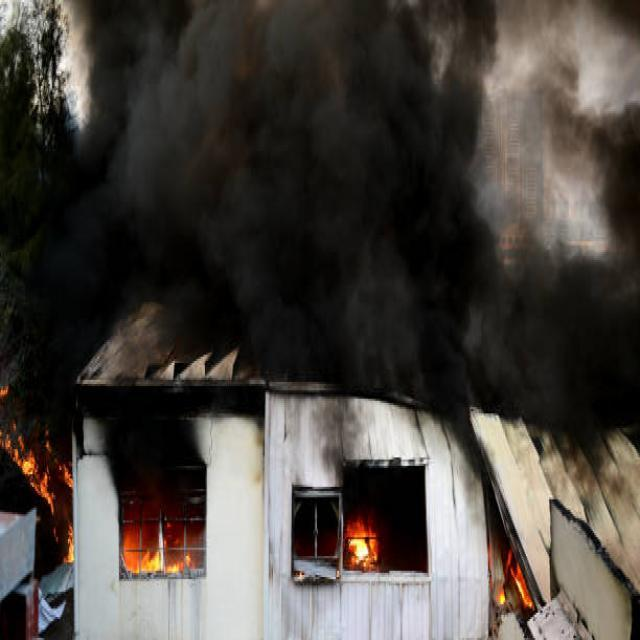Fire: (2, 374, 82, 520), (121, 507, 215, 575), (498, 535, 529, 614), (350, 510, 387, 564)
Smoke: (84, 0, 474, 353), (475, 10, 638, 276), (476, 255, 640, 423)
